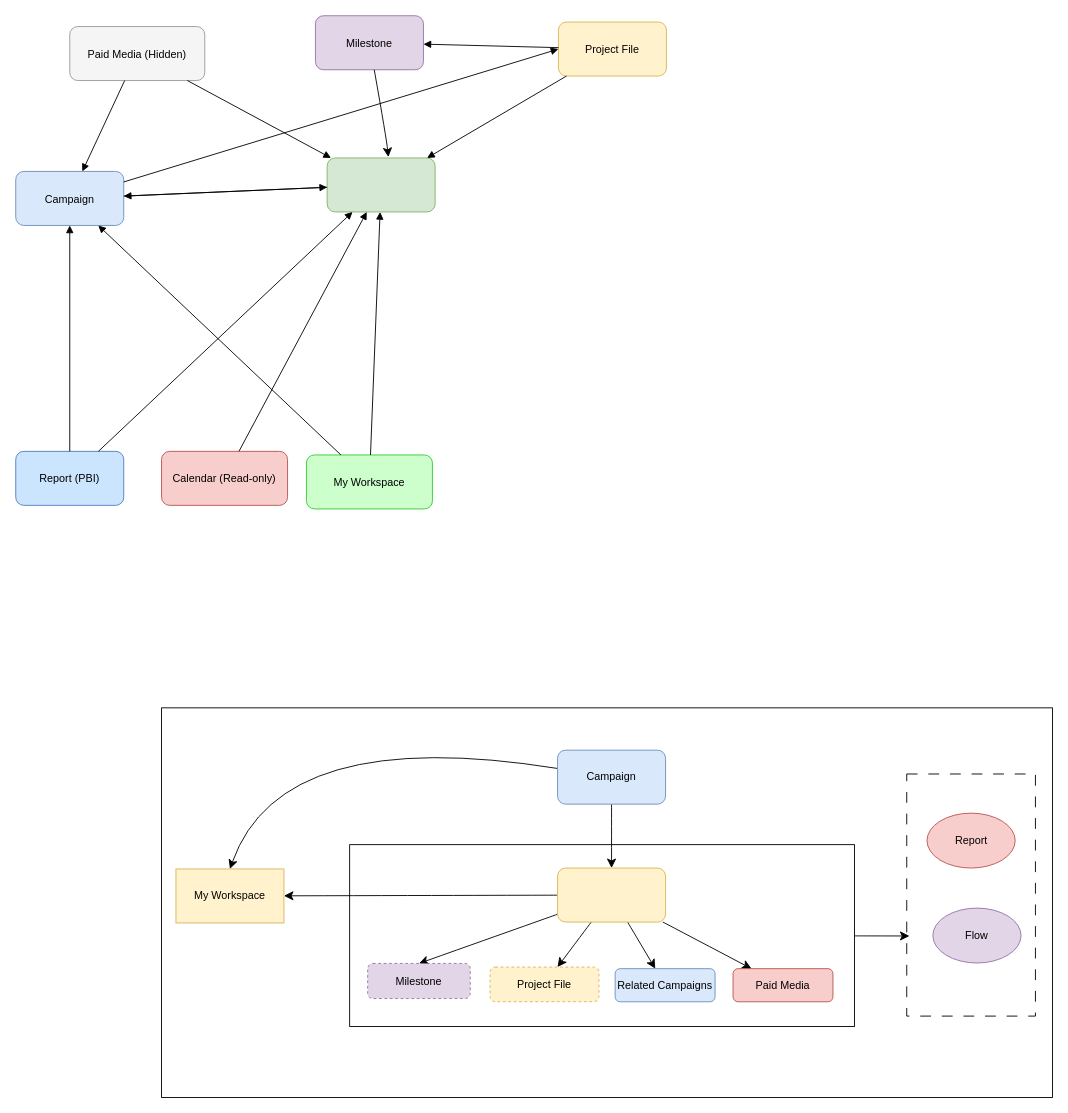
The diagram is 1068 pixels wide and 1113 high, and some of its shapes have lost their labels. Here are the shapes that lost their labels. From the top down, the box of each, then its label:
(326, 157, 435, 212): Tactic
(557, 867, 666, 922): Tactics
